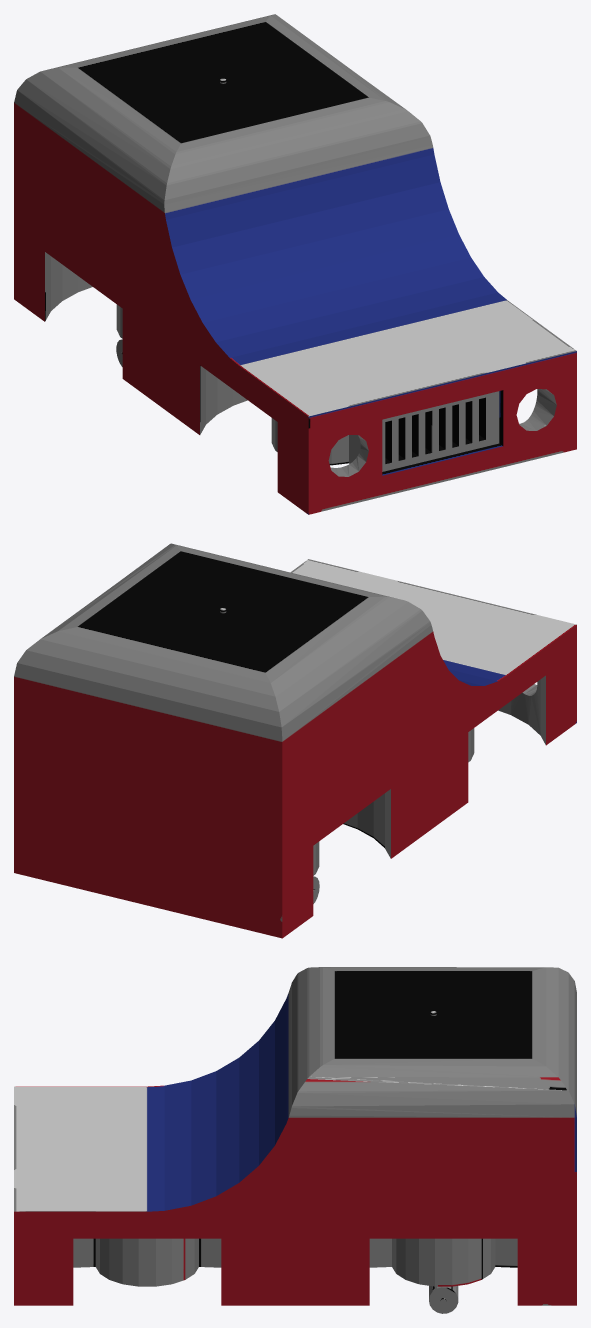
The picture shows the model from 3 angles, top to bottom: view 1: azimuth 30°, elevation 25°; view 2: azimuth 150°, elevation 25°; view 3: azimuth 270°, elevation 25°; orthographic projection. The views are drawn at different scales.
Visible parts, largest first — view 1: base_link; view 2: base_link; view 3: base_link.
Boxes of the visible parts, <box> form: base_link: <box>14,14,576,514</box>; base_link: <box>14,543,576,938</box>; base_link: <box>14,967,576,1313</box>.
Size of the model in its own units: 0.508 by 0.9652 by 0.4878.
1 material, 1 textured.
